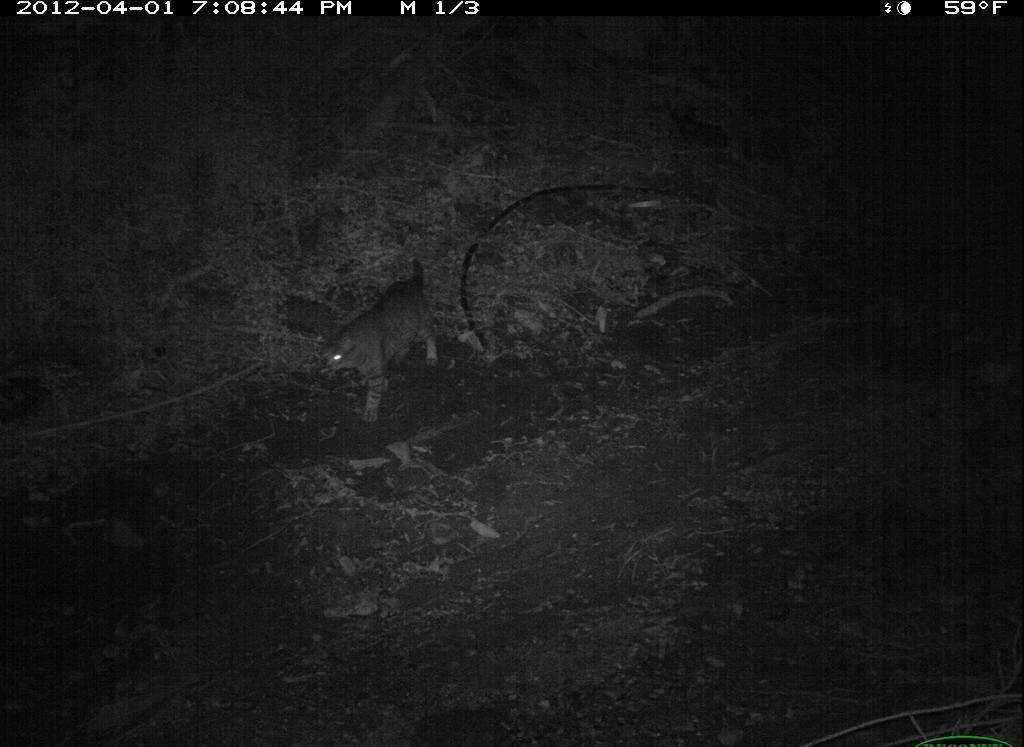cat: (310, 250, 463, 434)
